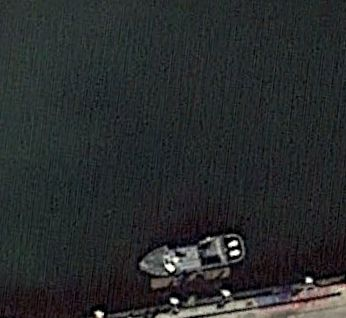boat: (137, 231, 248, 280)
